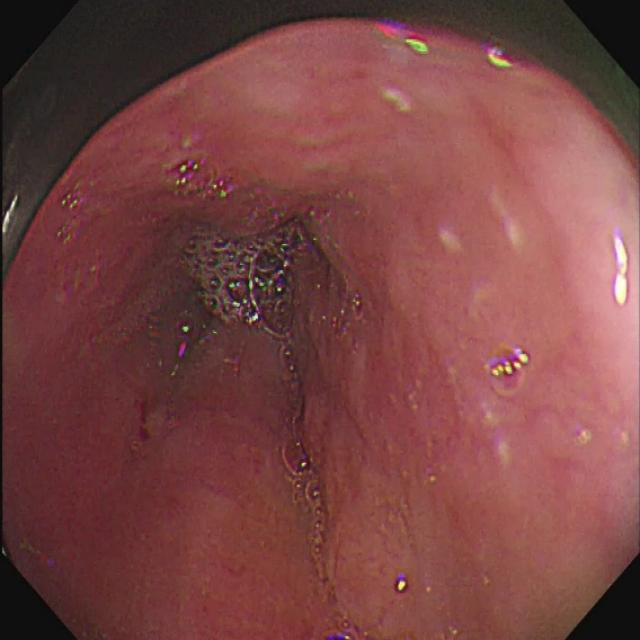T: (180, 232, 308, 342), (279, 344, 331, 588), (167, 156, 238, 204), (482, 347, 534, 401), (54, 178, 91, 250), (329, 291, 365, 339), (320, 617, 358, 640)
U: (380, 25, 429, 58), (612, 231, 632, 307), (484, 45, 512, 68), (396, 579, 412, 594)
